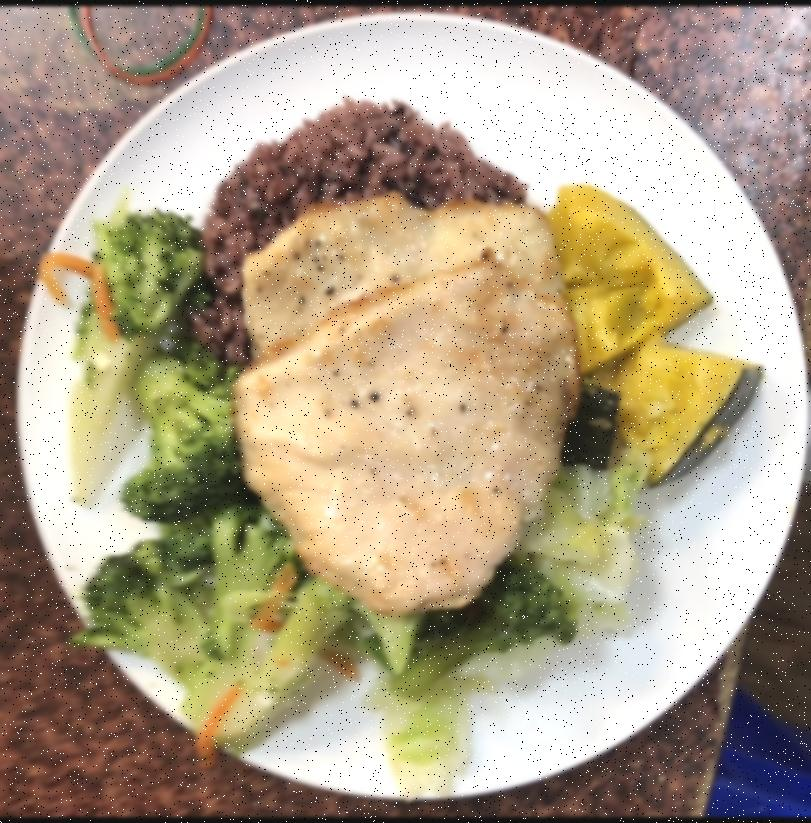grilled chicken steak: (226, 265, 578, 616), (236, 194, 564, 351)
plate: (8, 6, 811, 811)
purple rice: (185, 96, 530, 374)
side dish: (60, 211, 564, 766), (549, 175, 770, 498), (508, 463, 641, 668)
